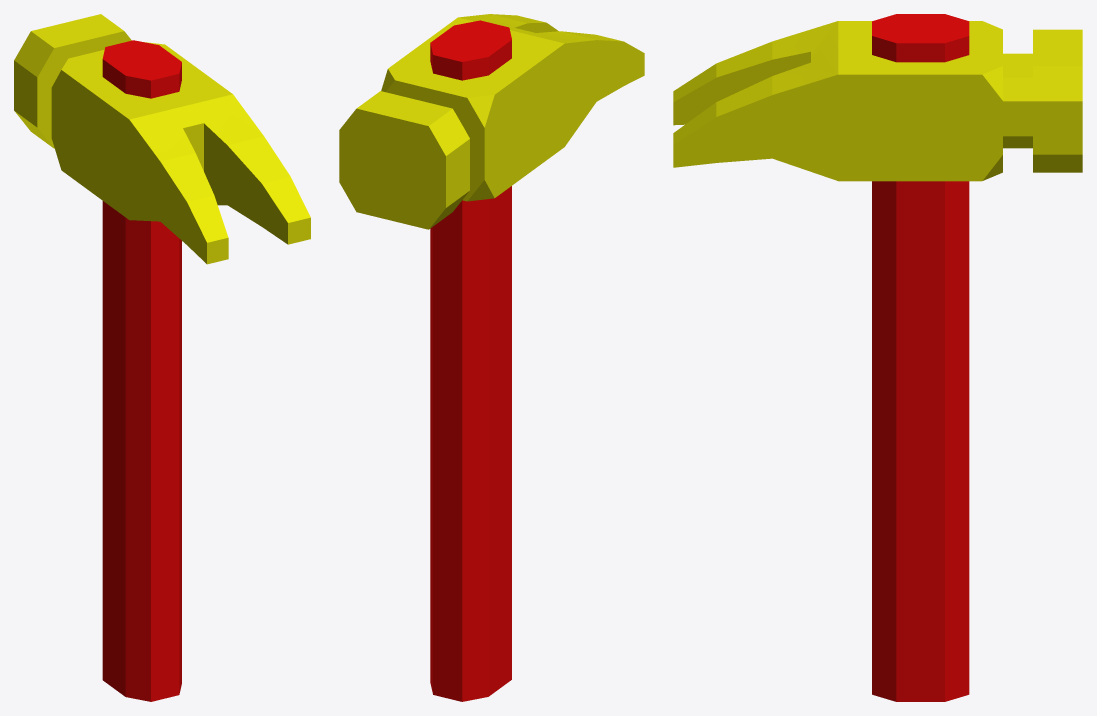
File: Hammer_SM.fbx
3 renders of one model, left to right at view 1: azimuth 30°, elevation 25°; view 2: azimuth 150°, elevation 25°; view 3: azimuth 270°, elevation 25°, orthographic. The views are drawn at different scales.
Visible parts, largest first — view 1: pCube35; view 2: pCube35; view 3: pCube35.
Part boxes in pixels (box(x1,y1,x2,y2)): pCube35: box(14, 14, 310, 701); pCube35: box(339, 14, 644, 701); pCube35: box(673, 14, 1082, 701).
Size of the model in its own units: 3.49 by 20 by 11.26.
